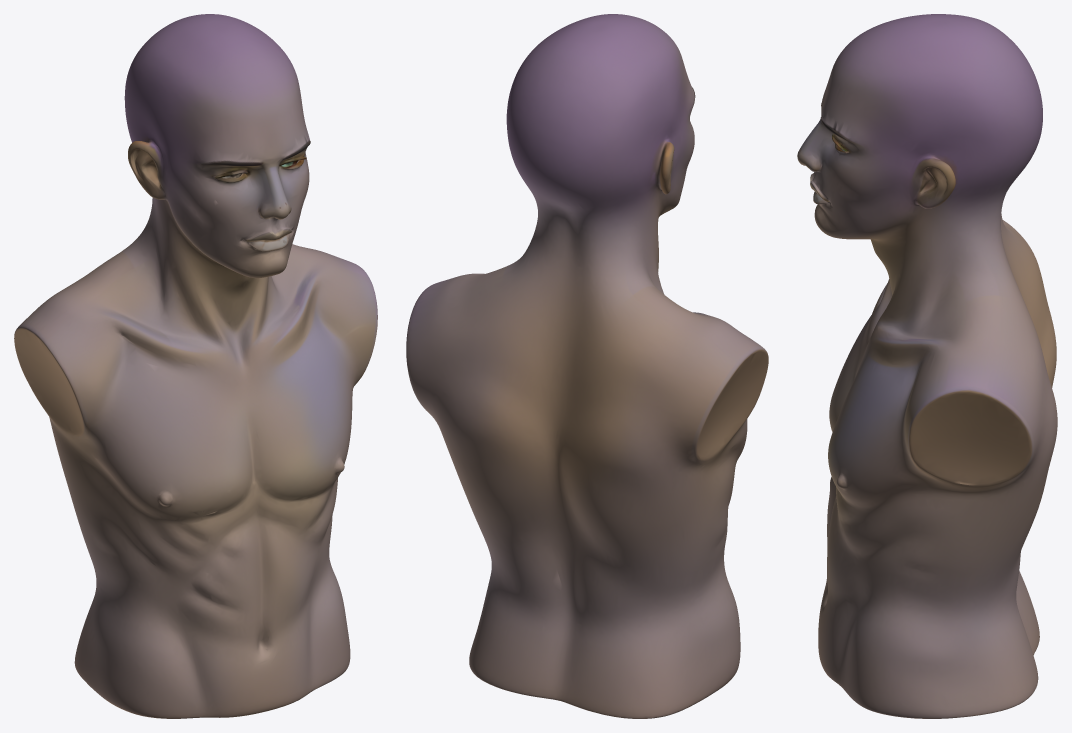
Rendered from polge_1.glb.
3 views of the same model, side by side, from view 1: azimuth 30°, elevation 25°; view 2: azimuth 150°, elevation 25°; view 3: azimuth 270°, elevation 25° (orthographic).
Visible parts, largest first — view 1: material; view 2: material; view 3: material.
Part boxes in pixels (x1,y1,x2,y2): material: [14, 14, 377, 718]; material: [406, 14, 768, 718]; material: [797, 14, 1057, 718].
Size of the model in its own units: 0.596 by 1.12 by 0.4101.
1 material, 1 textured.
